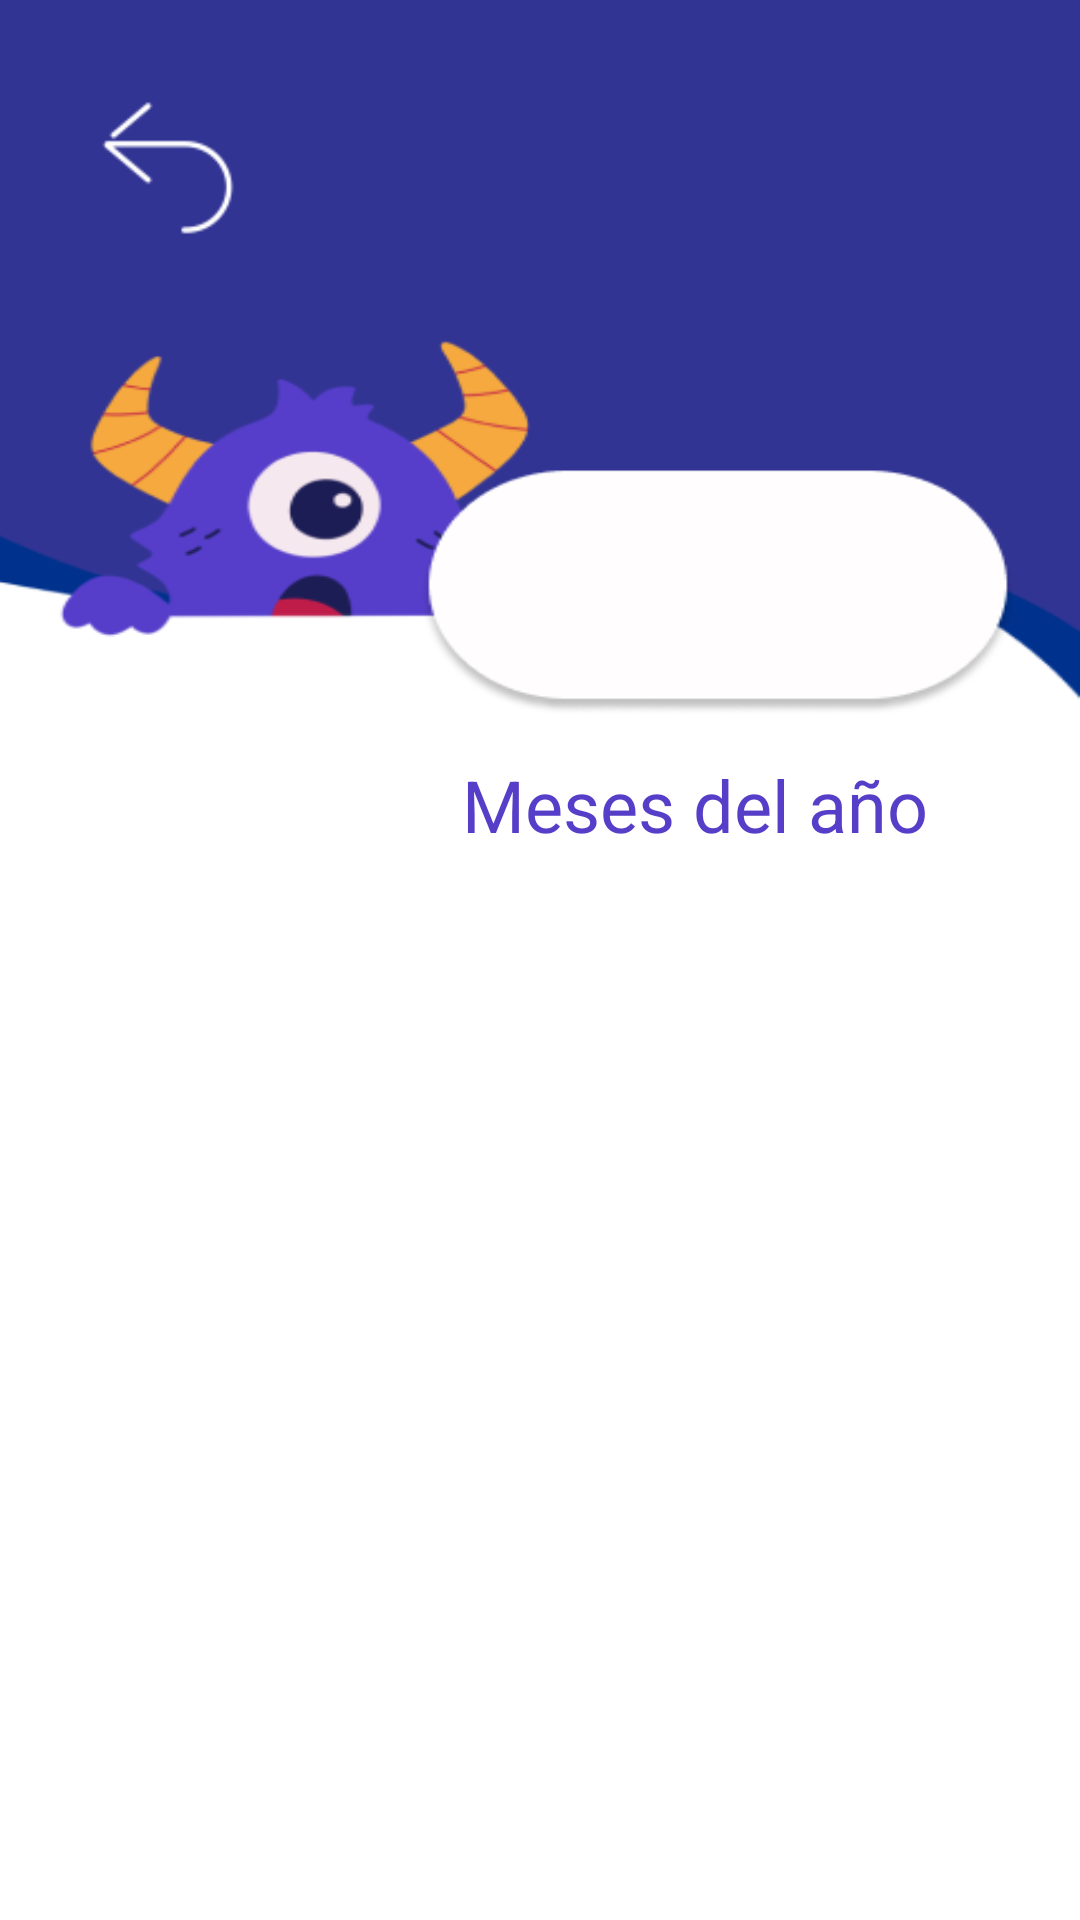

Icon click points for this 1080w x 1920h phone screenshot, format point (x, y):
Retrocederr: point (168, 168)
